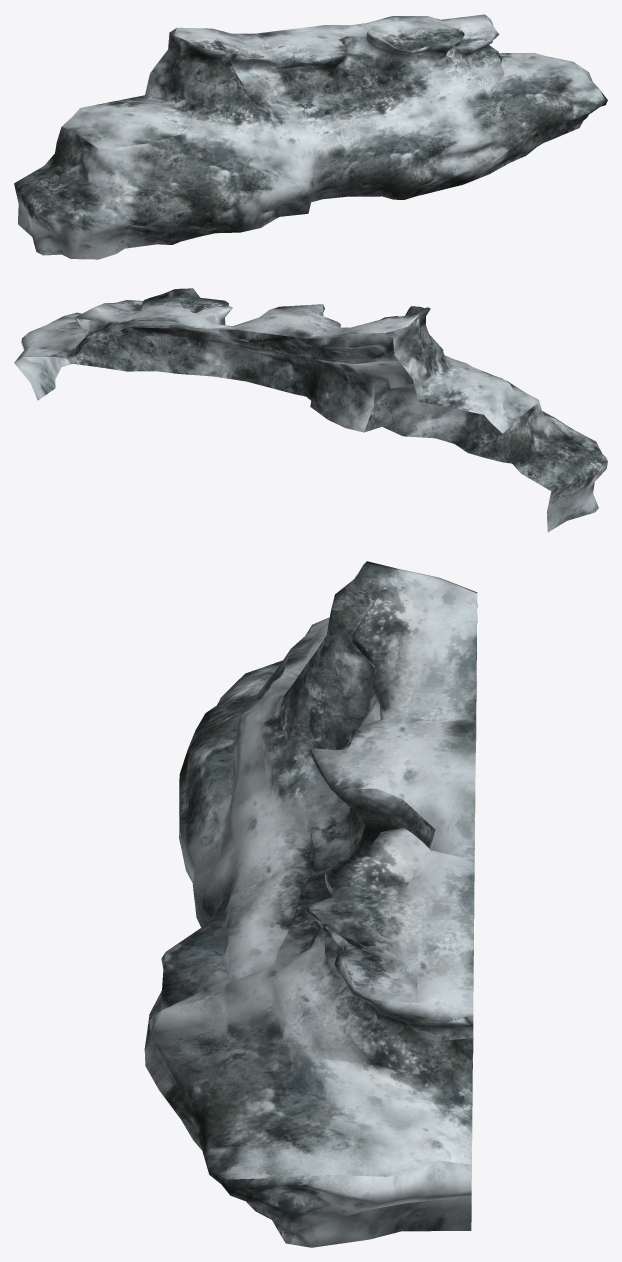
Rendered from S_Rock_White042.FBX.
The picture shows the model from 3 angles, top to bottom: view 1: azimuth 30°, elevation 25°; view 2: azimuth 150°, elevation 25°; view 3: azimuth 270°, elevation 25°; orthographic projection. The views are drawn at different scales.
Visible parts, largest first — view 1: S_Rock_White042; view 2: S_Rock_White042; view 3: S_Rock_White042.
Part boxes in pixels (x1,y1,x2,y2): S_Rock_White042: (14,14,607,259); S_Rock_White042: (14,288,607,532); S_Rock_White042: (144,561,477,1247).
Bounding box in the file's own units: 5836 × 1504 × 1656.
